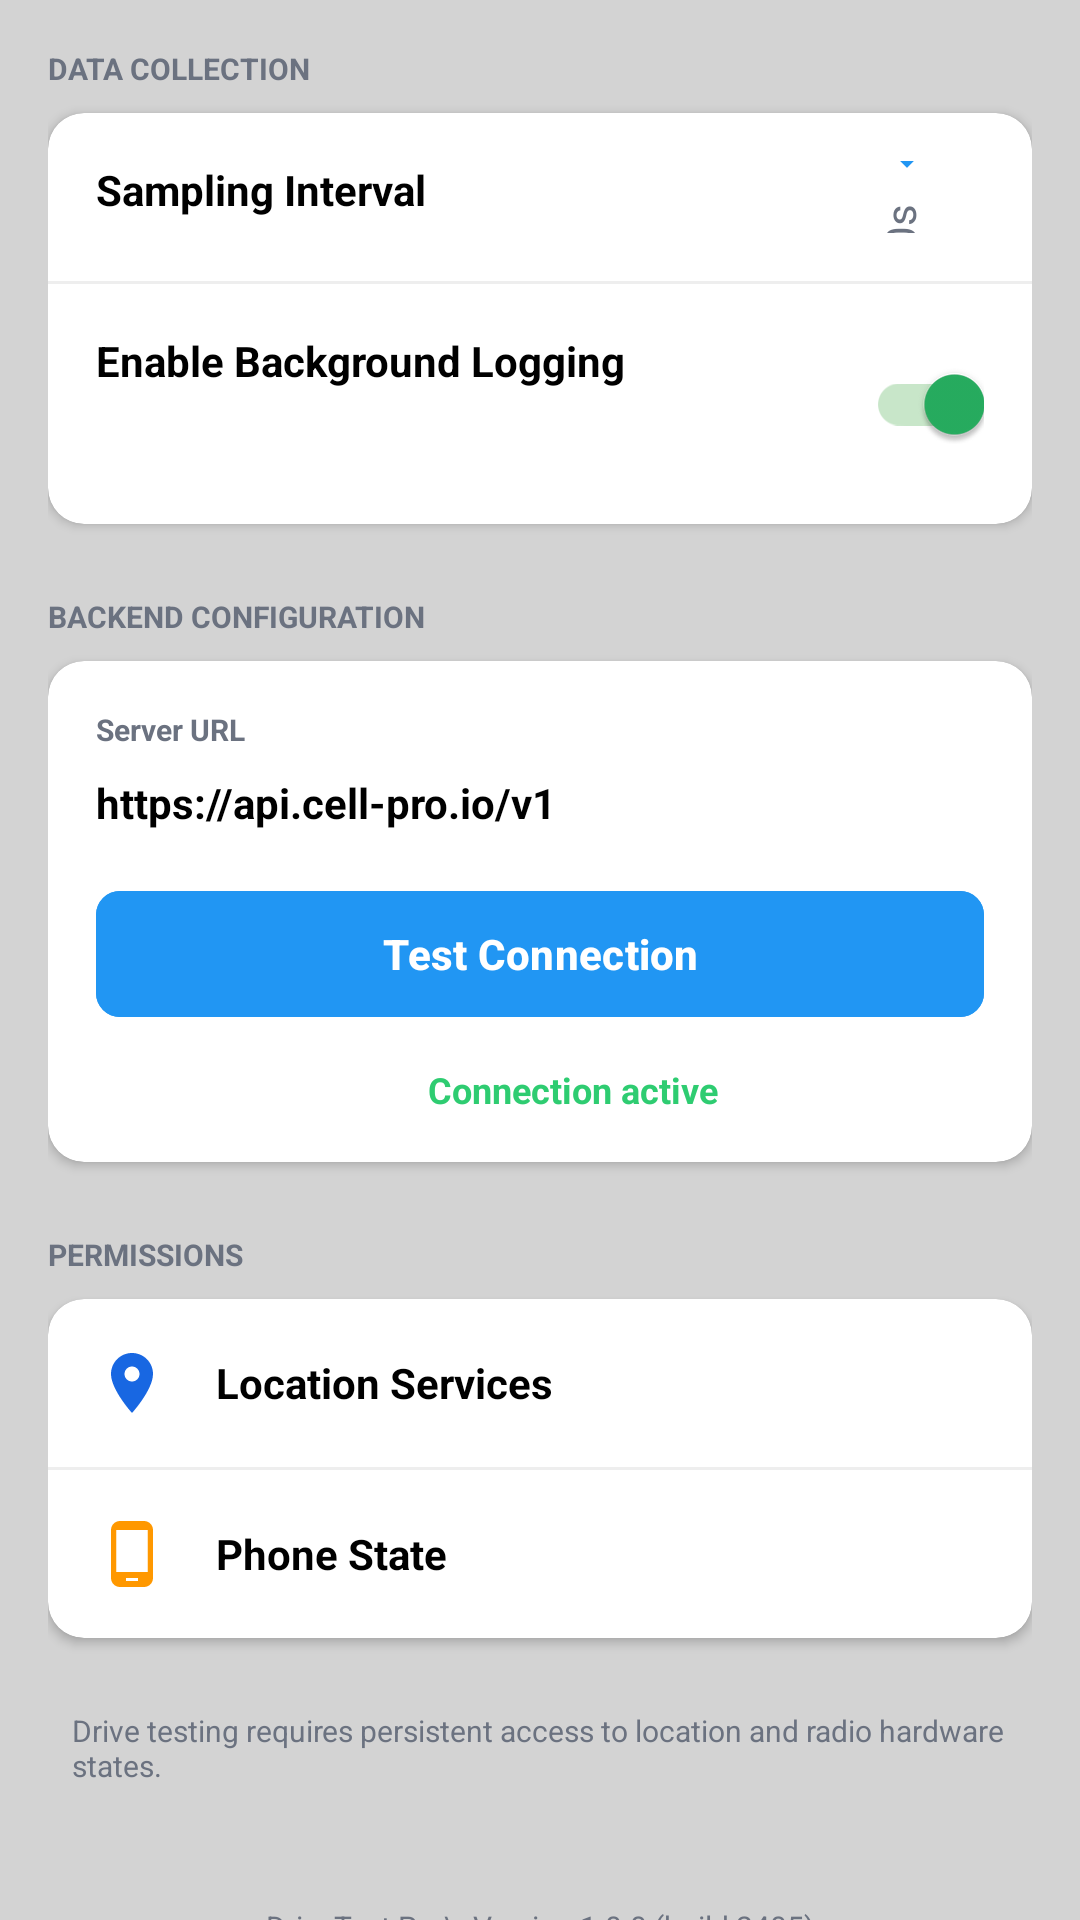

Locate icon controls on the screen. Image size 1080px×1920px, boxes as region(x1, y1, x2, y2).
location on: region(111, 1353, 153, 1413)
phone android: region(111, 1521, 153, 1587)
